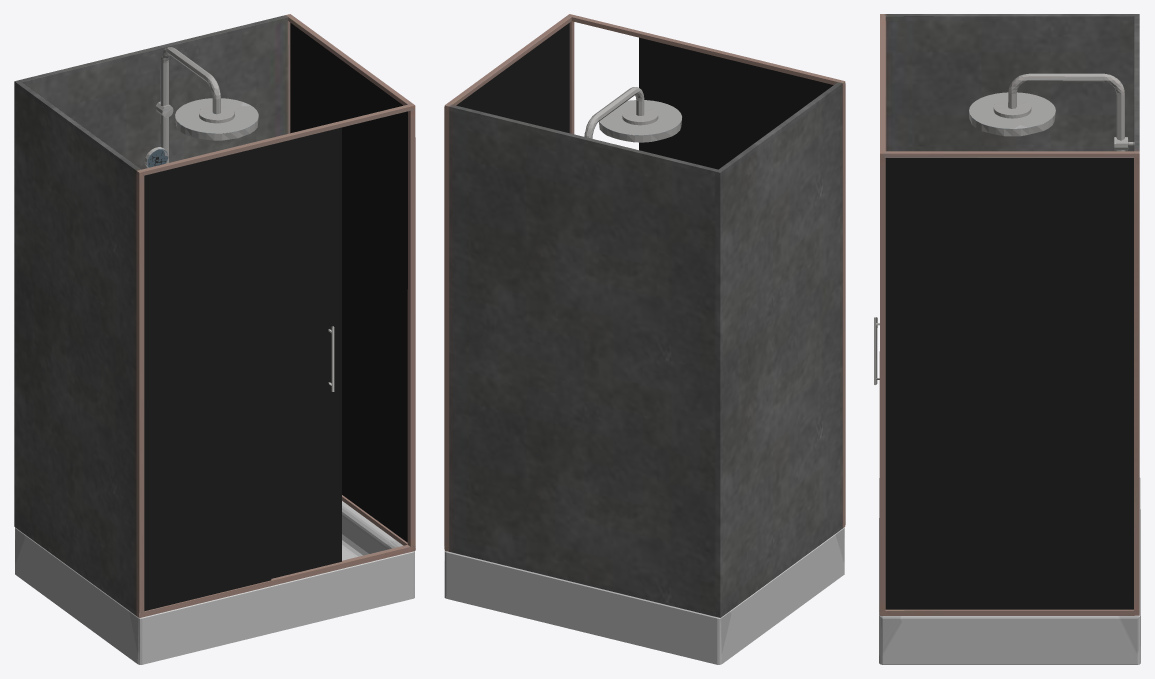
The model's file is f_shower.glb.
3 renders of one model, left to right at view 1: azimuth 30°, elevation 25°; view 2: azimuth 150°, elevation 25°; view 3: azimuth 270°, elevation 25°, orthographic. The views are drawn at different scales.
Size of the model in its own units: 1.3 by 2.26 by 1.05.
Materials: 4 (4 with a texture image).
